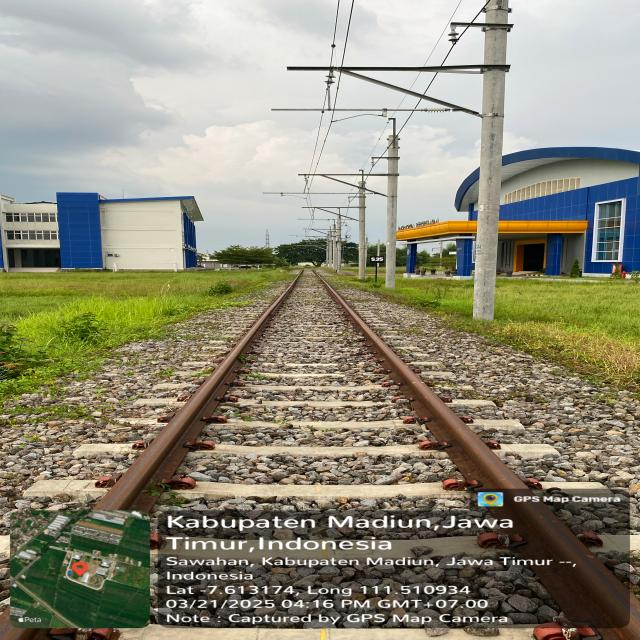rail-detection: (311, 267, 633, 628), (96, 269, 303, 510)
